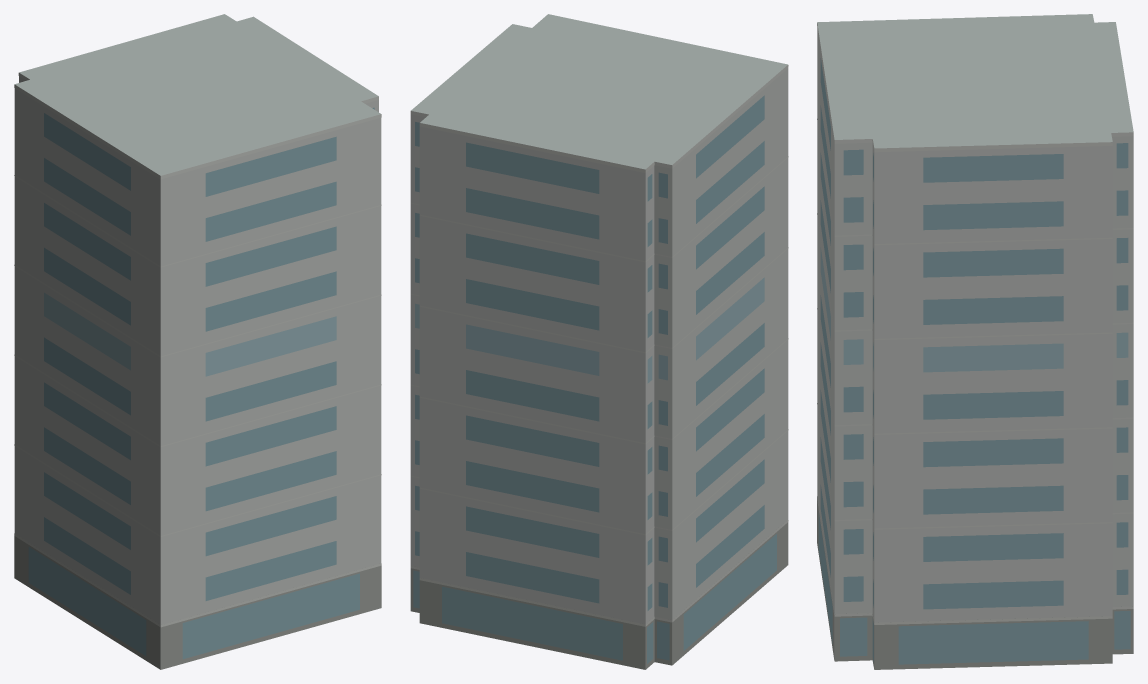
The model's file is survey-upis-33042562.glb.
3 views of the same model, side by side, from view 1: azimuth 30°, elevation 25°; view 2: azimuth 150°, elevation 25°; view 3: azimuth 270°, elevation 25° (orthographic). The views are drawn at different scales.
Parts seen in each view (by area): view 1: survey-upis-33042562.tmp; view 2: survey-upis-33042562.tmp; view 3: survey-upis-33042562.tmp.
Boxes of the visible parts, x1=… form: survey-upis-33042562.tmp: x1=14, y1=14, x2=381, y2=669; survey-upis-33042562.tmp: x1=410, y1=14, x2=788, y2=669; survey-upis-33042562.tmp: x1=817, y1=14, x2=1133, y2=669.
Size of the model in its own units: 18.58 by 33.55 by 18.48.
